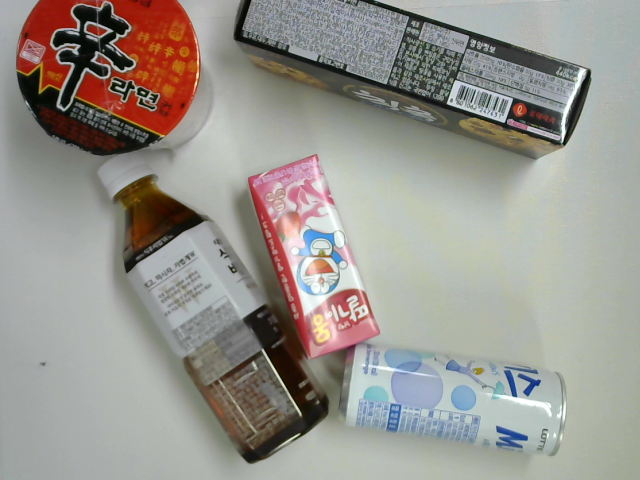Chicchok_Original_2400: (233, 1, 595, 163)
Milkies_250ml: (338, 340, 568, 460)
Post-meal_recipe_W_tea_500ml: (95, 149, 332, 464)
Sinramen_small: (13, 1, 215, 156)
Strawberry_E_Mong: (246, 155, 383, 358)
